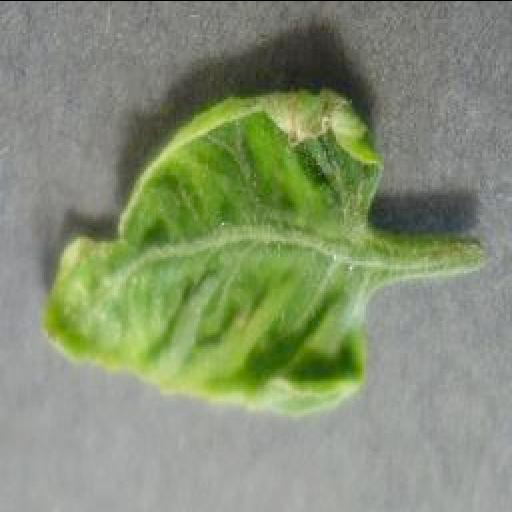disease_tomato: (36, 86, 390, 414)
